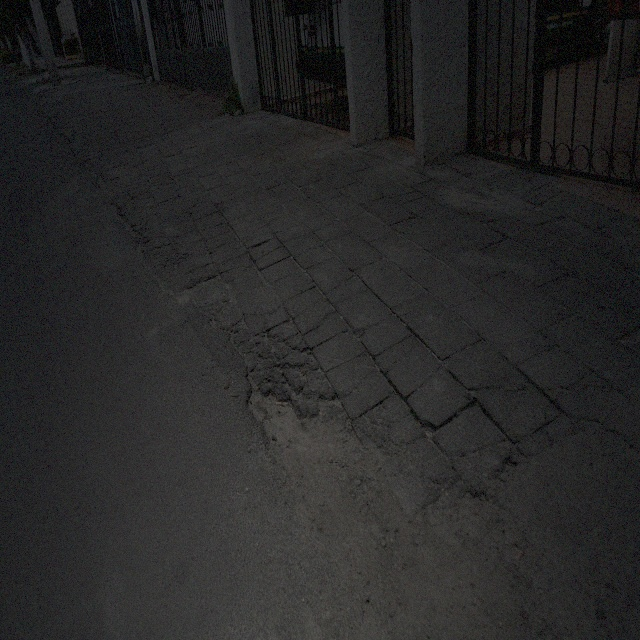pothole: (246, 380, 403, 549)
